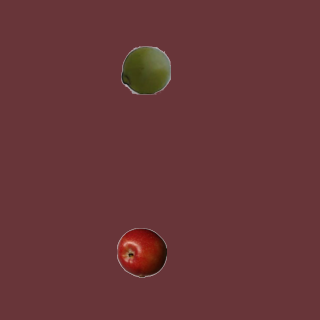Apple Braeburn: (116, 227, 166, 277)
Grape White 4: (120, 44, 170, 94)
